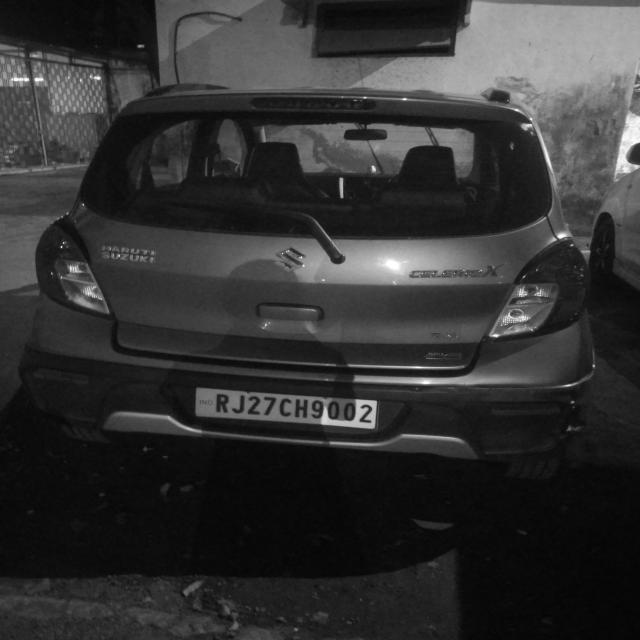car: (15, 88, 585, 498)
license-plate: (191, 383, 378, 429)
